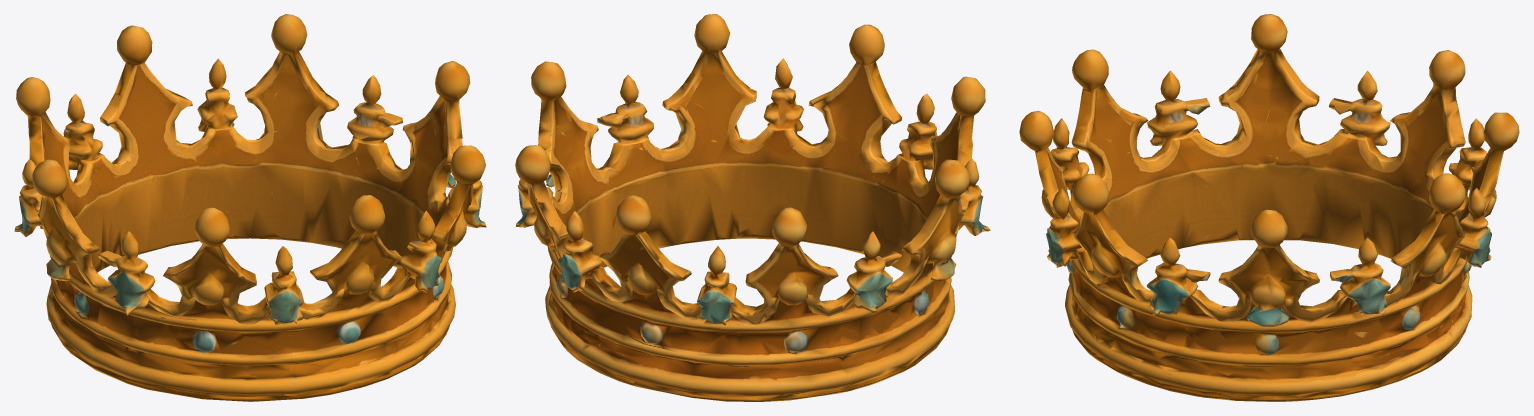
Rendered from winnerCrown.1bacb982.glb.
3 views of the same model, side by side, from view 1: azimuth 30°, elevation 25°; view 2: azimuth 150°, elevation 25°; view 3: azimuth 270°, elevation 25° (orthographic).
Size of the model in its own units: 1.89 by 0.8649 by 1.9.
Materials: 1 (1 with a texture image).
